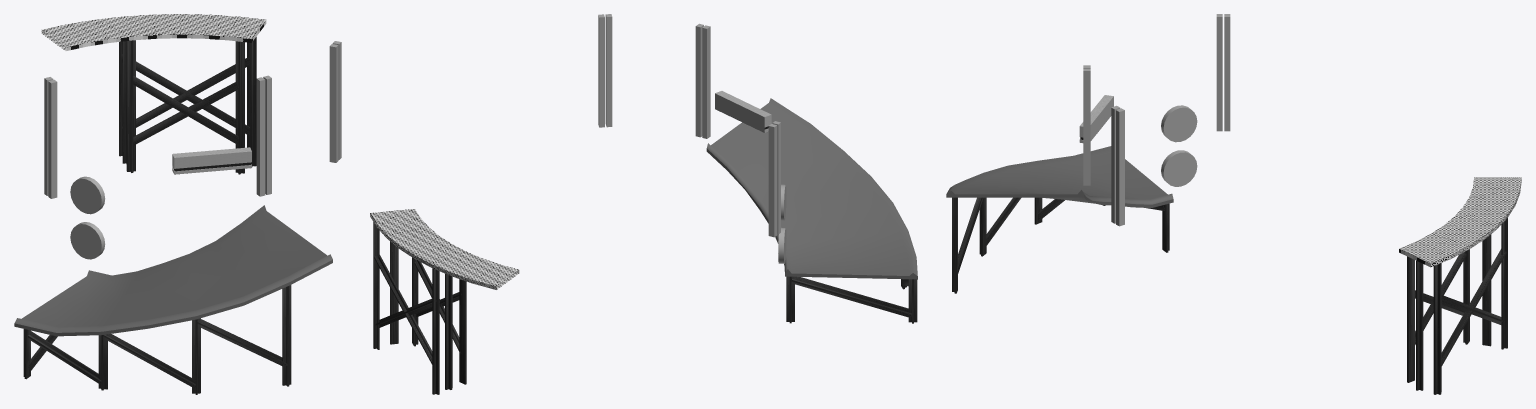
Rendered from tutorial_statics_structures.fbx.
3 renders of one model, left to right at view 1: azimuth 30°, elevation 25°; view 2: azimuth 150°, elevation 25°; view 3: azimuth 270°, elevation 25°, orthographic. The views are drawn at different scales.
Parts seen in each view (by area): view 1: pPipe11, pPipe10, polySurface6, pCube57, pCube38, pCube36, pCube42, pCube58, pCube61, pCylinder3, pCylinder2, pCube51 (+15 smaller); view 2: pPipe11, pPipe10, polySurface6, pCube35, pCube48, pCube38, pCube56, pCube64, pCube37, pCube42, pCube57, pCube60 (+4 smaller); view 3: pPipe11, pPipe10, pCube55, pCylinder2, pCylinder3, pCube41, pCube63, pCube58, pCube37, pCube59, pCube64, pCube56 (+9 smaller).
Boxes of the visible parts, box(x1,y1,x2,y2) form: pPipe11: box(14, 205, 332, 336); pPipe10: box(41, 14, 266, 50); polySurface6: box(172, 147, 251, 174); pCube57: box(126, 40, 135, 172); pCube38: box(256, 77, 265, 196); pCube36: box(48, 79, 57, 198); pCube42: box(329, 44, 338, 162); pCube58: box(235, 41, 244, 174); pCube61: box(133, 76, 238, 145); pCylinder3: box(70, 222, 105, 259); pCylinder2: box(70, 176, 105, 214); pCube51: box(282, 285, 291, 386); pPipe11: box(706, 98, 917, 279); pPipe10: box(370, 209, 519, 289); polySurface6: box(715, 91, 771, 132); pCube35: box(768, 124, 777, 237); pCube48: box(791, 276, 911, 317); pCube38: box(702, 25, 710, 138); pCube56: box(432, 268, 439, 394); pCube64: box(445, 273, 452, 389); pCube37: box(695, 23, 703, 137); pCube42: box(605, 14, 612, 127); pCube57: box(459, 279, 466, 384); pCube60: box(374, 255, 432, 364); pPipe11: box(946, 146, 1173, 207); pPipe10: box(1399, 177, 1521, 267); pCube55: box(1433, 263, 1441, 394); pCylinder2: box(1161, 105, 1197, 142); pCylinder3: box(1161, 150, 1197, 186); pCube41: box(1116, 108, 1124, 226); pCube63: box(1416, 260, 1423, 390); pCube58: box(1407, 256, 1414, 382); pCube37: box(1083, 68, 1090, 185); pCube59: box(1441, 249, 1506, 366); pCube64: box(1482, 234, 1491, 346); pCube56: box(1501, 218, 1507, 349).
Bounding box in the file's own units: 2602 × 1506 × 3170.
5 materials, 3 textured.
